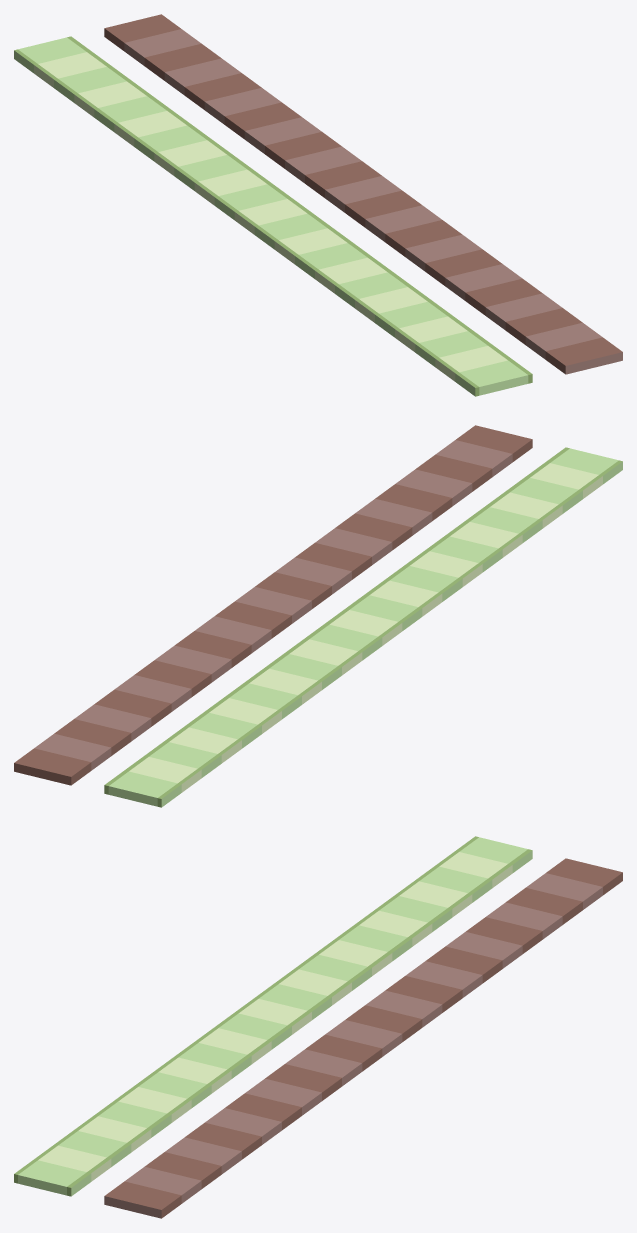
The model's file is tracks New.fbx.
3 renders of one model, top to bottom at view 1: azimuth 30°, elevation 25°; view 2: azimuth 150°, elevation 25°; view 3: azimuth 330°, elevation 25°, orthographic.
Visible parts, largest first — view 1: Cube.002, Cube.092; view 2: Cube.002, Cube.092; view 3: Cube.002, Cube.092.
Part boxes in pixels (x1,y1,x2,y2): Cube.002: [14, 36, 532, 396]; Cube.092: [104, 14, 622, 374]; Cube.002: [104, 447, 622, 807]; Cube.092: [14, 425, 532, 785]; Cube.002: [14, 836, 532, 1196]; Cube.092: [104, 858, 622, 1218].
Bounding box in the file's own units: 2381 × 134 × 12895.
2 materials, 2 textured.
